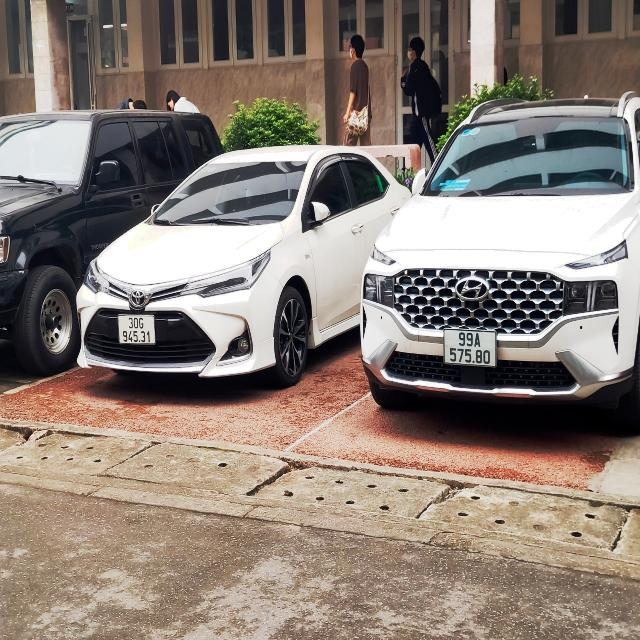license_plate: (446, 330, 497, 367), (120, 316, 157, 345)
